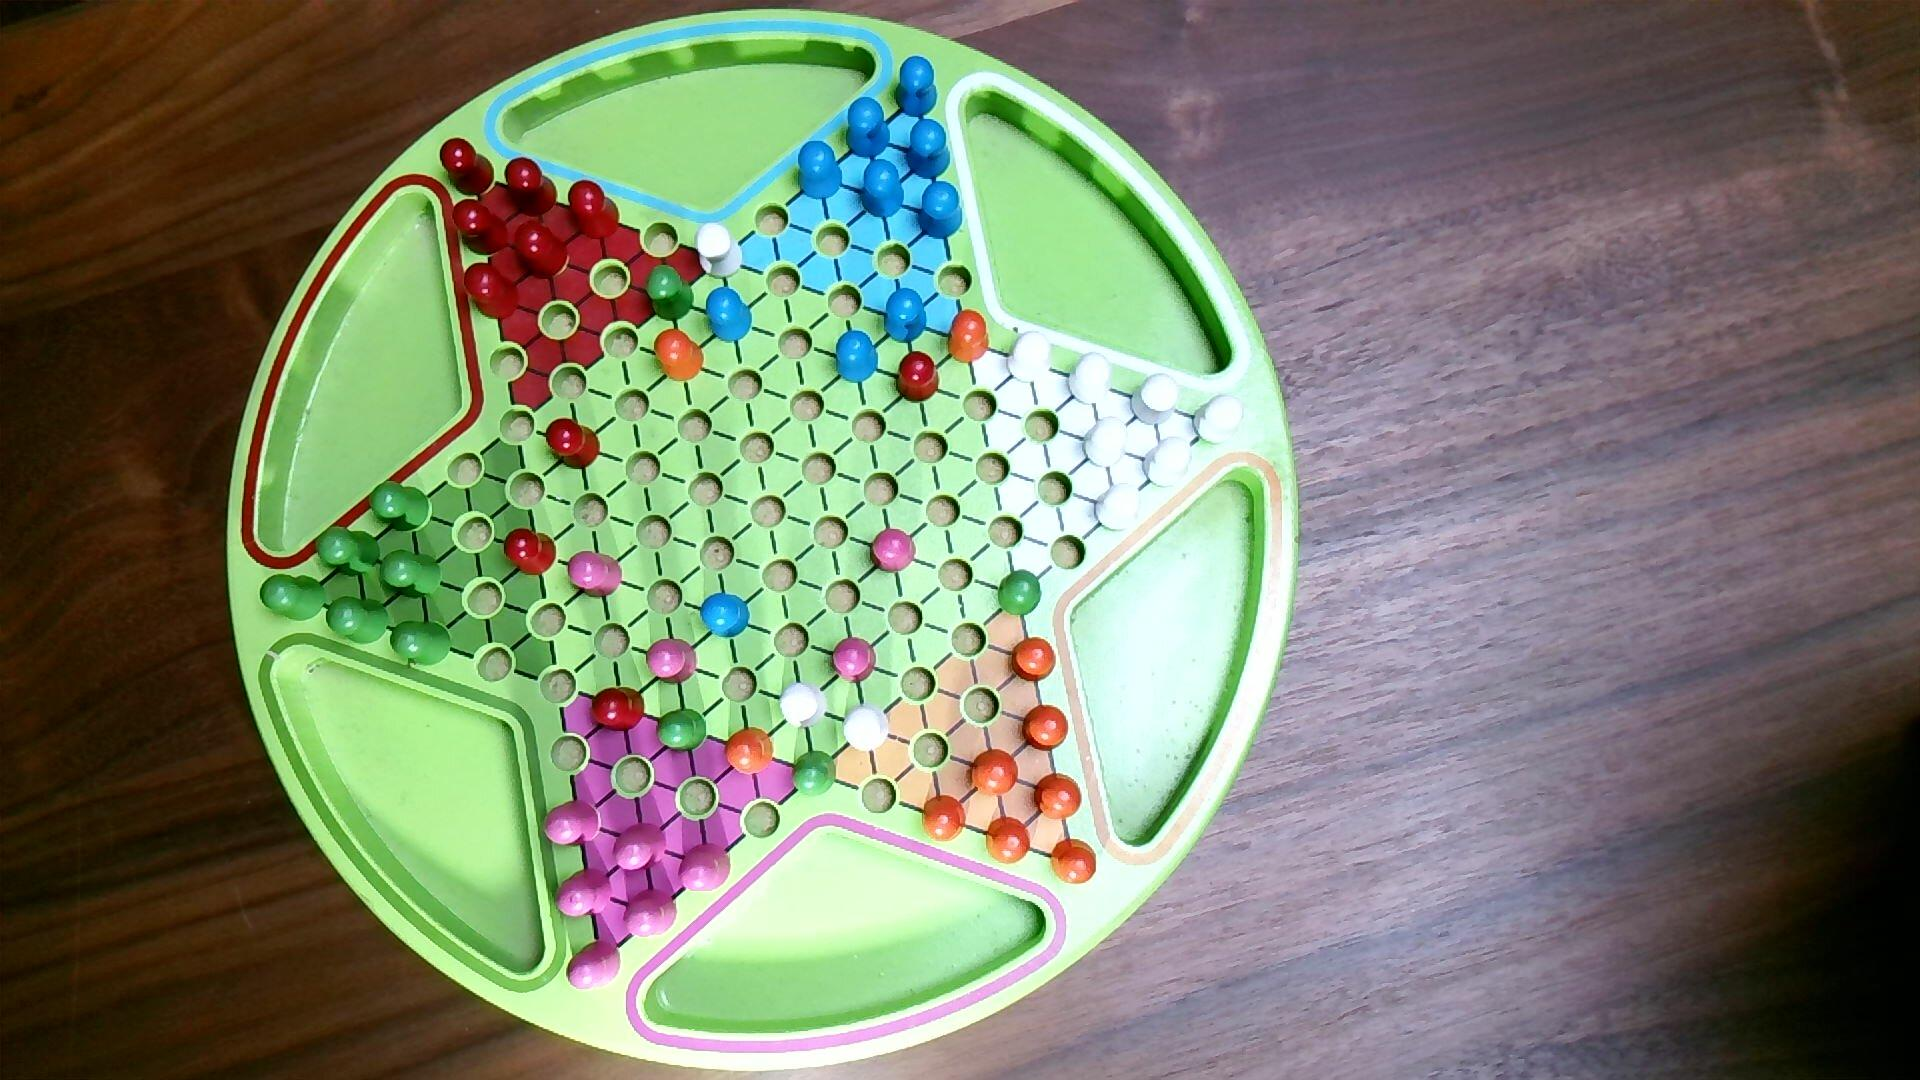B: (843, 94, 891, 162), (903, 116, 953, 182), (858, 156, 907, 222), (704, 285, 756, 345), (915, 179, 965, 241), (796, 138, 845, 202), (891, 55, 940, 119), (698, 591, 752, 642), (882, 287, 928, 347), (833, 328, 881, 385)
G: (314, 524, 382, 580), (367, 477, 433, 535), (324, 593, 392, 647), (257, 572, 327, 624), (378, 549, 444, 603), (644, 262, 696, 324), (389, 618, 454, 669), (654, 707, 709, 756), (790, 749, 839, 799), (997, 568, 1044, 618)
O: (651, 327, 705, 385), (968, 748, 1021, 799), (945, 309, 992, 367), (1033, 771, 1084, 823), (724, 725, 775, 777), (1048, 837, 1098, 887), (1021, 704, 1071, 754), (984, 815, 1033, 866), (1009, 636, 1059, 684), (920, 794, 968, 845)
R: (462, 260, 522, 323), (450, 198, 512, 258), (512, 219, 571, 282), (439, 136, 497, 199), (502, 157, 559, 219), (567, 179, 622, 243), (545, 415, 603, 473), (502, 527, 558, 579), (589, 686, 647, 735), (894, 349, 942, 407)
R2: (554, 866, 615, 920), (622, 887, 680, 942), (564, 939, 624, 992), (566, 549, 625, 601), (611, 822, 669, 874), (676, 843, 733, 895), (543, 799, 603, 849), (645, 637, 700, 687), (829, 636, 878, 686), (869, 526, 918, 576)
W: (1139, 435, 1195, 491), (1191, 393, 1247, 447), (694, 222, 745, 281), (1129, 372, 1182, 429), (1065, 351, 1116, 407), (1092, 481, 1145, 534), (1006, 328, 1054, 386), (1081, 415, 1131, 469), (841, 703, 891, 756), (779, 682, 829, 732)
